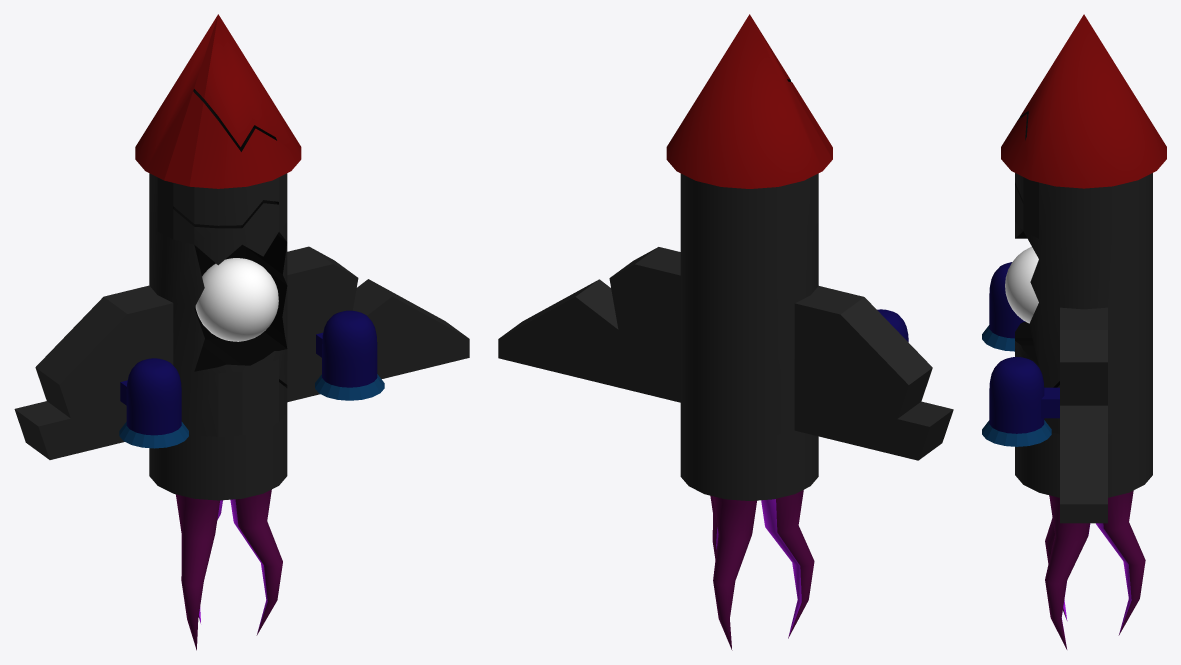
The model's file is Project - Rocket Enemy (Final).fbx.
The picture shows the model from 3 angles, left to right: view 1: azimuth 30°, elevation 25°; view 2: azimuth 150°, elevation 25°; view 3: azimuth 270°, elevation 25°; orthographic projection.
Visible parts, largest first — view 1: Cylinder001, Sphere001, Cylinder003, Cylinder002, Cone001, Cone002; view 2: Cylinder001, Cone003, Cone001; view 3: Cylinder001, Cylinder002, Cone002, Cone003, Cylinder003, Sphere001, Cone001.
Part boxes in pixels (box(x1,y1,x2,y2)): Cylinder001: box(14, 14, 469, 500); Sphere001: box(195, 258, 278, 341); Cylinder003: box(119, 358, 188, 448); Cylinder002: box(315, 310, 384, 400); Cone001: box(175, 494, 220, 650); Cone002: box(230, 489, 282, 635); Cylinder001: box(498, 14, 953, 500); Cone003: box(713, 496, 756, 650); Cone001: box(761, 490, 814, 638); Cylinder001: box(1001, 14, 1166, 523); Cylinder002: box(982, 357, 1059, 446); Cone002: box(1045, 495, 1090, 649); Cone003: box(1096, 490, 1145, 635); Cylinder003: box(982, 262, 1025, 351); Sphere001: box(1005, 246, 1038, 323); Cone001: box(1045, 518, 1067, 620).
Size of the model in its own units: 35.5 by 49.08 by 13.21.
